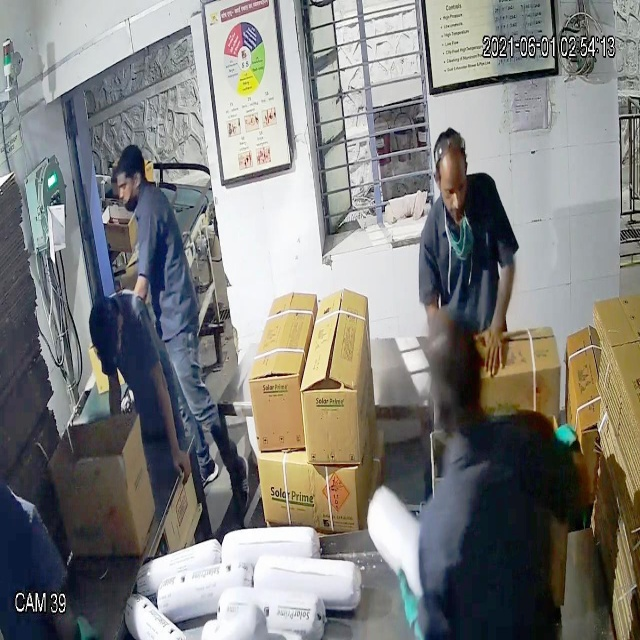Sin_gafas: (429, 170, 470, 207)
